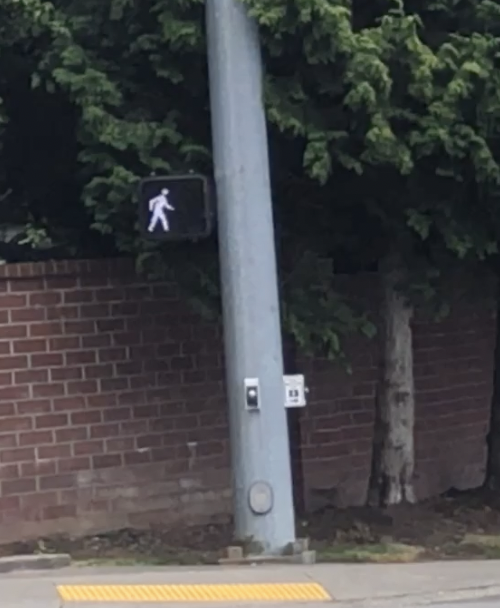pedestrian_walk: (141, 177, 206, 237)
pole: (206, 0, 294, 553)
vegetation: (0, 0, 499, 503), (236, 0, 499, 266), (0, 0, 211, 256)
